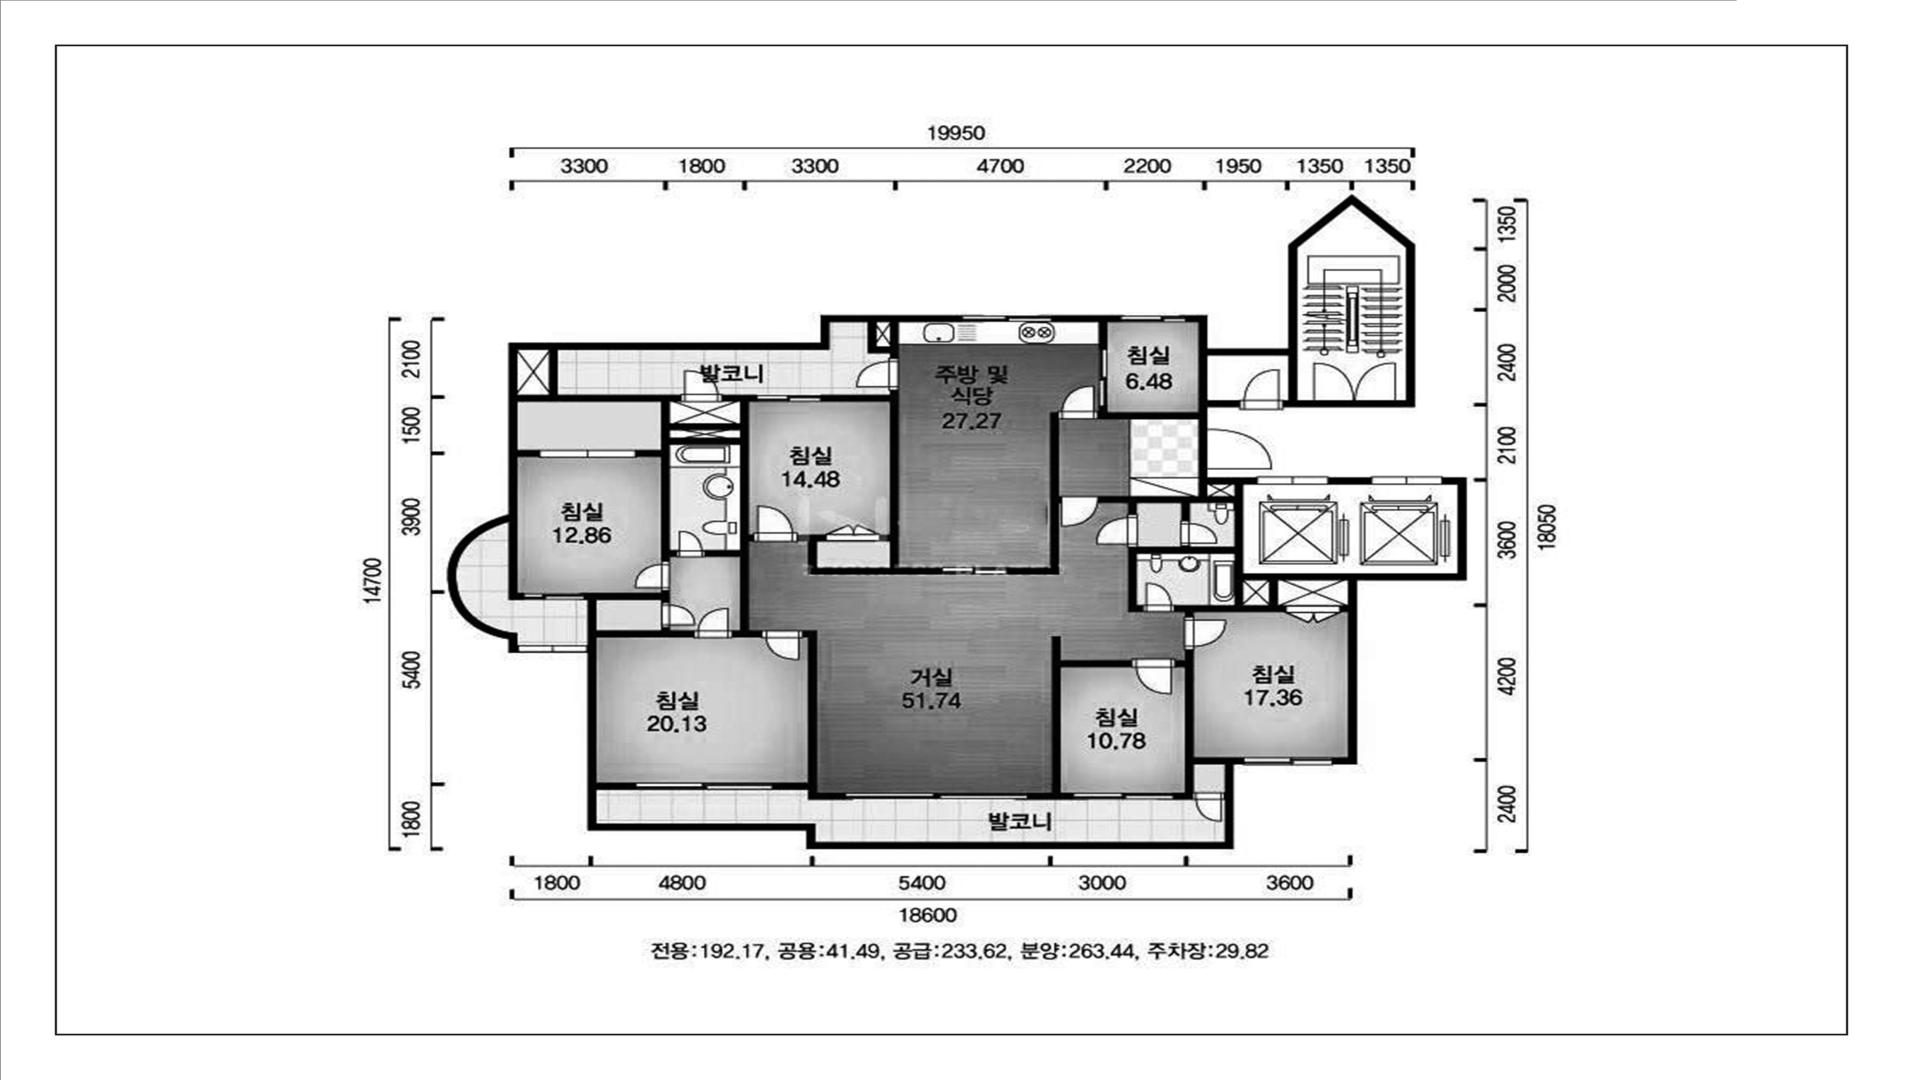door: (1313, 362, 1396, 407), (1199, 429, 1272, 469), (1239, 369, 1284, 407), (753, 505, 798, 541), (1132, 659, 1176, 695), (1095, 514, 1137, 547), (856, 358, 898, 391), (1058, 385, 1098, 419), (1186, 617, 1227, 650), (680, 370, 723, 401), (761, 630, 803, 661), (694, 608, 733, 637), (1062, 497, 1098, 527), (634, 562, 669, 590), (1142, 582, 1175, 611), (1193, 793, 1226, 821), (1182, 520, 1217, 546), (662, 602, 695, 628), (676, 531, 705, 557), (1371, 477, 1443, 485), (1255, 478, 1328, 485), (941, 568, 1008, 574), (1100, 349, 1106, 407)
wall: (448, 315, 961, 653), (585, 593, 1243, 849), (1199, 469, 1466, 764), (517, 350, 762, 637), (1186, 194, 1415, 429), (797, 391, 941, 574), (1028, 636, 1132, 799), (773, 631, 845, 799), (1008, 412, 1062, 574), (1174, 650, 1226, 799), (1129, 546, 1235, 611), (1098, 484, 1235, 520), (1175, 579, 1286, 617), (1098, 407, 1200, 419), (868, 322, 898, 358), (596, 628, 694, 637), (596, 590, 669, 602), (1053, 316, 1120, 322), (1328, 478, 1371, 485), (597, 783, 635, 790), (1100, 322, 1106, 349), (517, 450, 539, 457)
window: (845, 793, 1028, 799), (635, 783, 773, 790), (539, 450, 636, 457), (960, 315, 1053, 322), (1243, 757, 1332, 764), (1073, 793, 1174, 799), (517, 645, 588, 653), (522, 593, 585, 600), (1120, 316, 1186, 322), (756, 395, 821, 401)
